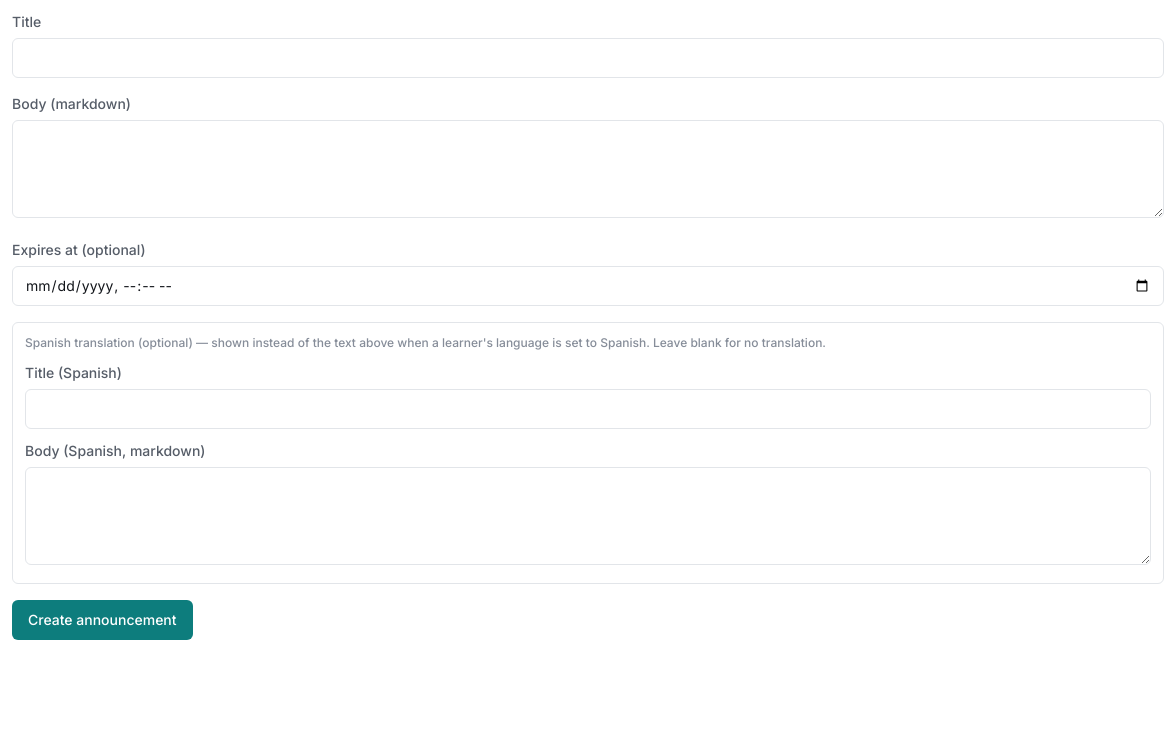
Scenario: CreateAnnouncementForm › renders an error returned by the action instead of silently failing
In the field labelled "Title": (588, 58) [12,38,1164,78], type "Title"
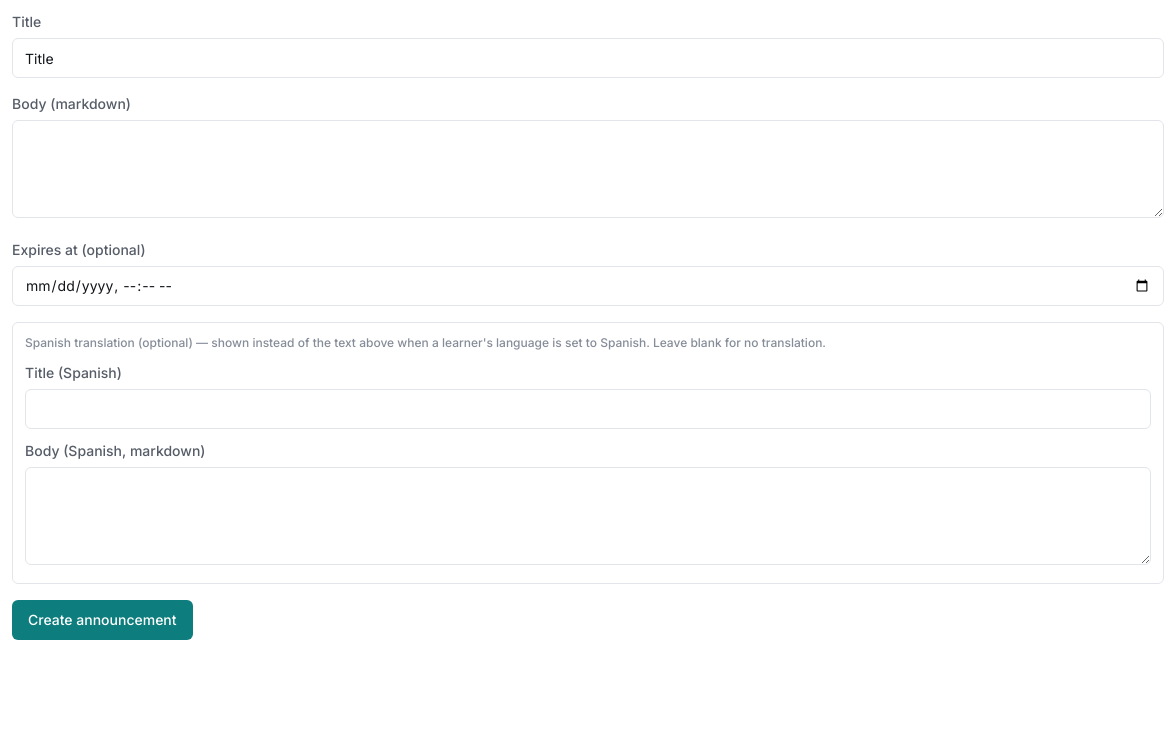
In the text box labelled "Body (markdown)": (588, 169) [12,120,1164,218], type "Body"
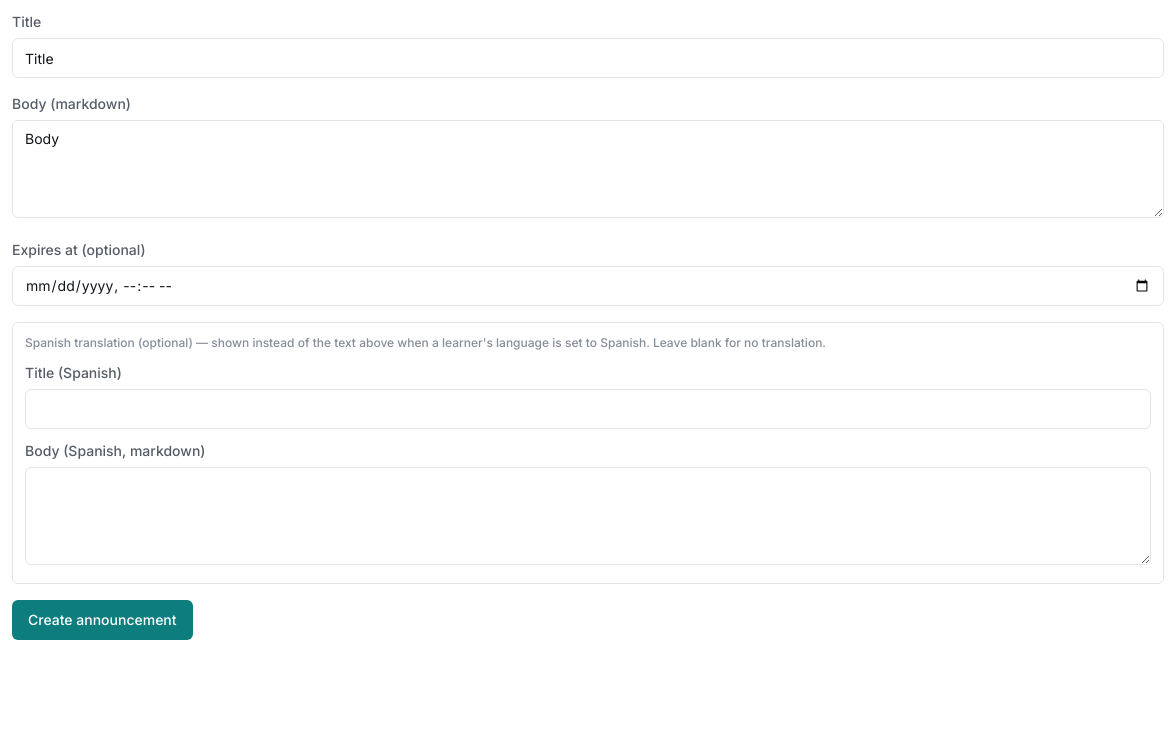
Click the button "Create announcement": (102, 620) [12,600,193,640]
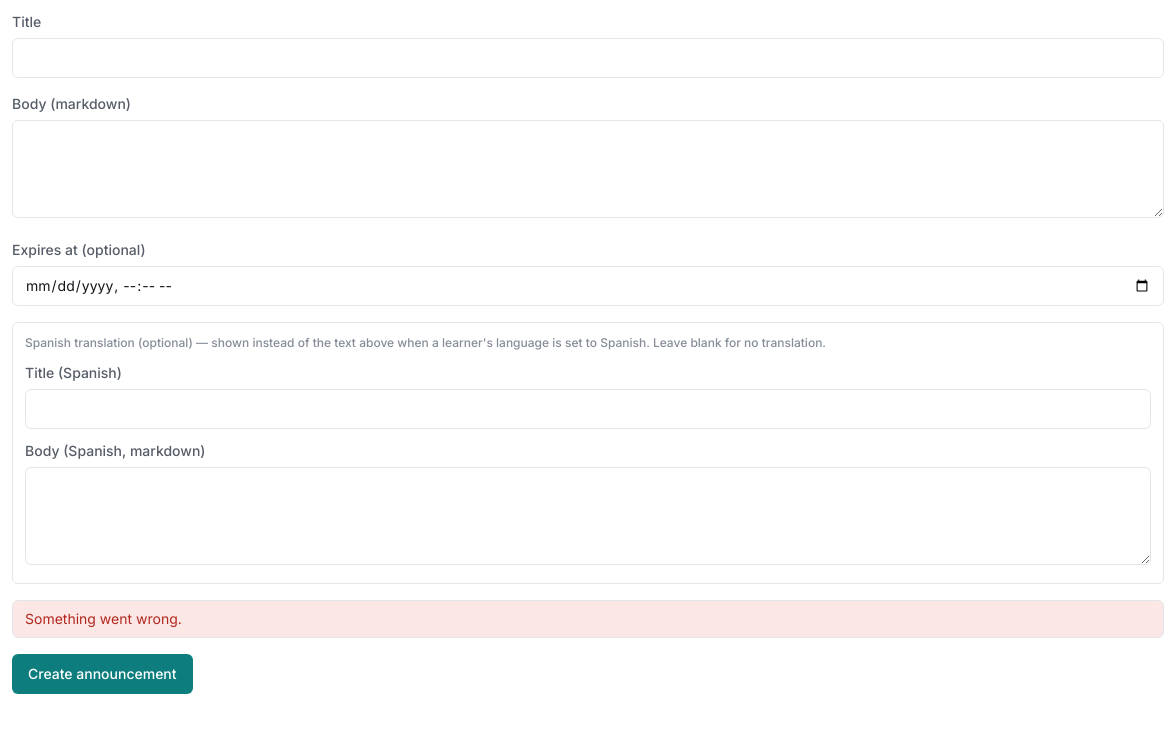
Check: the message reads "Something went wrong.", box [25,610,182,627]
